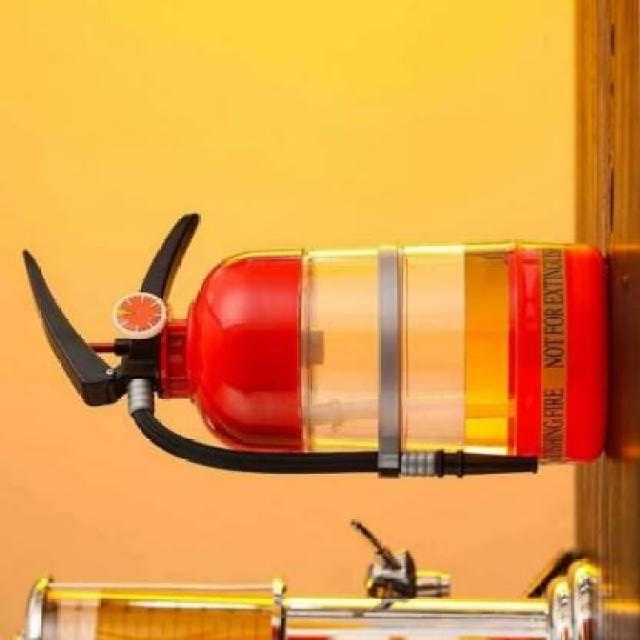fire extinguisher: (23, 214, 609, 478)
